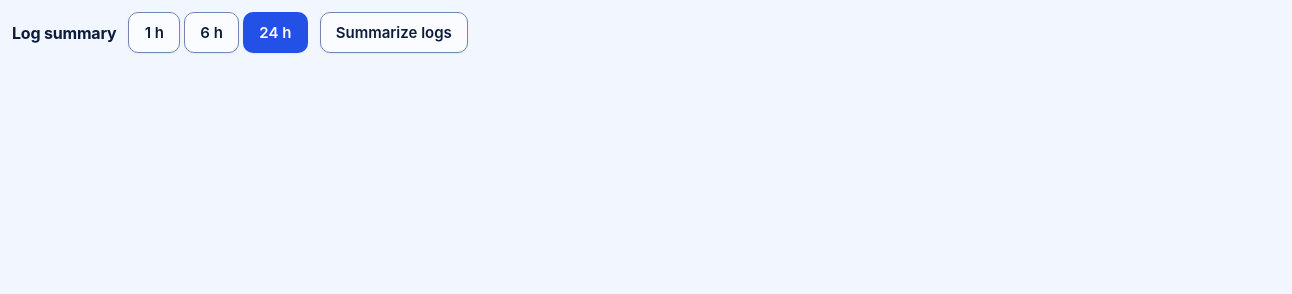
it: LogSummary › shows the reason in a note when the AI was not used
Step 1. Click the button "Summarize logs" → point(394, 33), box [320,12,468,53]
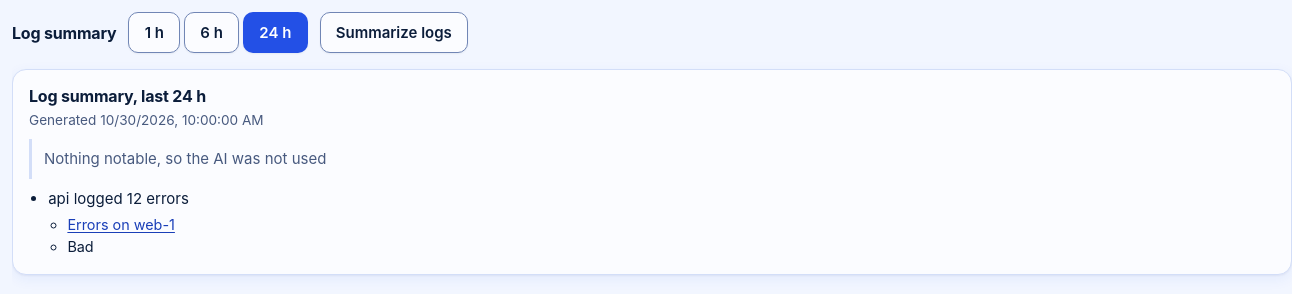
Check: the text "Nothing notable, so the AI was not used" is shown, box [29,139,1275,179]
